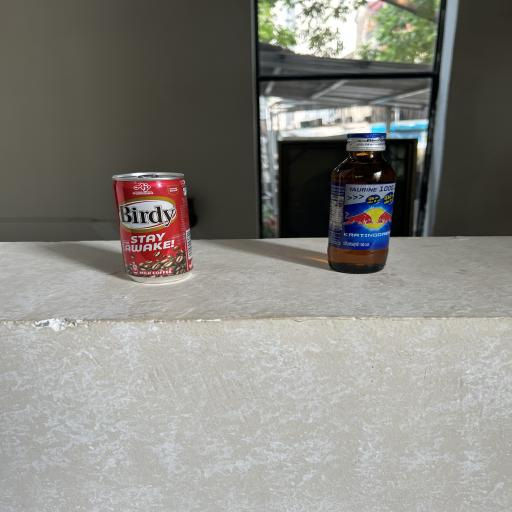birdy: (109, 171, 197, 289)
bo_huc: (324, 130, 397, 276)
